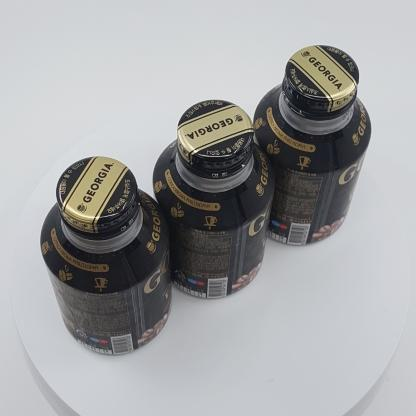---------------270ML: (40, 157, 172, 356), (152, 100, 275, 299), (254, 45, 371, 246)
